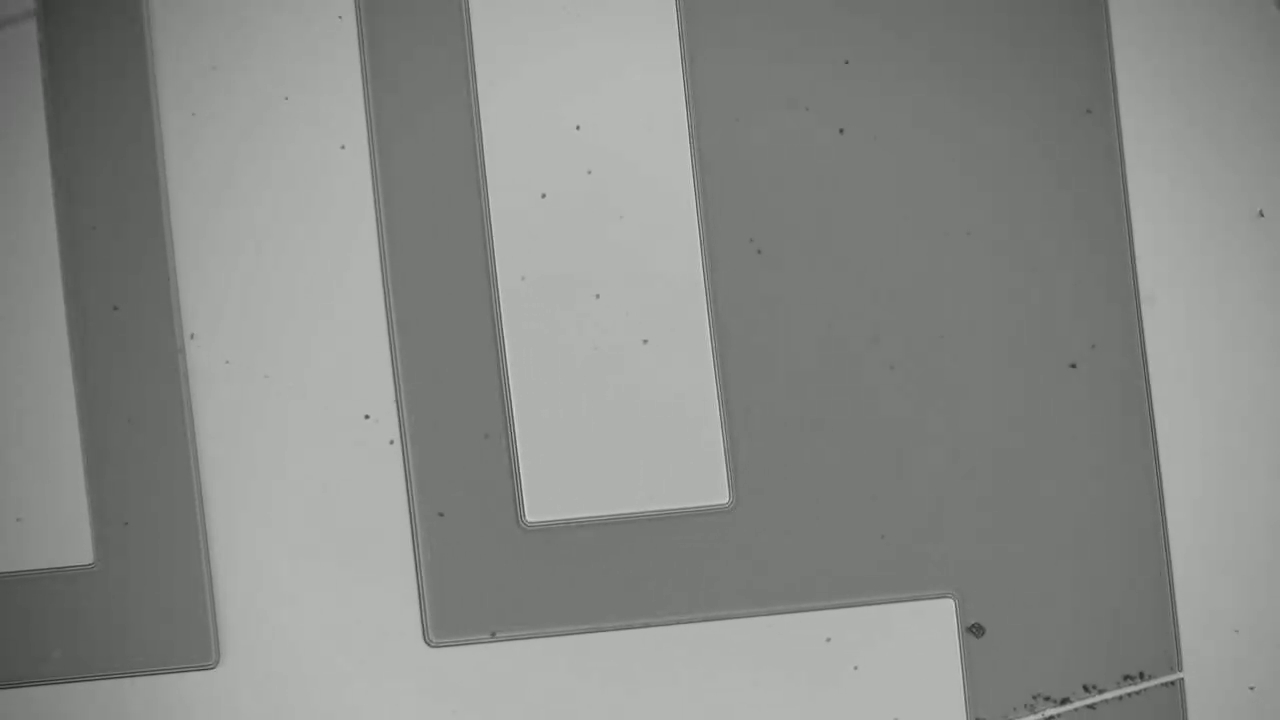scratch: (1031, 671, 1185, 710)
